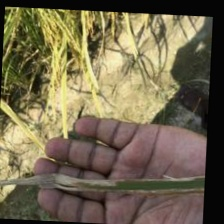Leaf_Blast: (0, 166, 200, 196)
